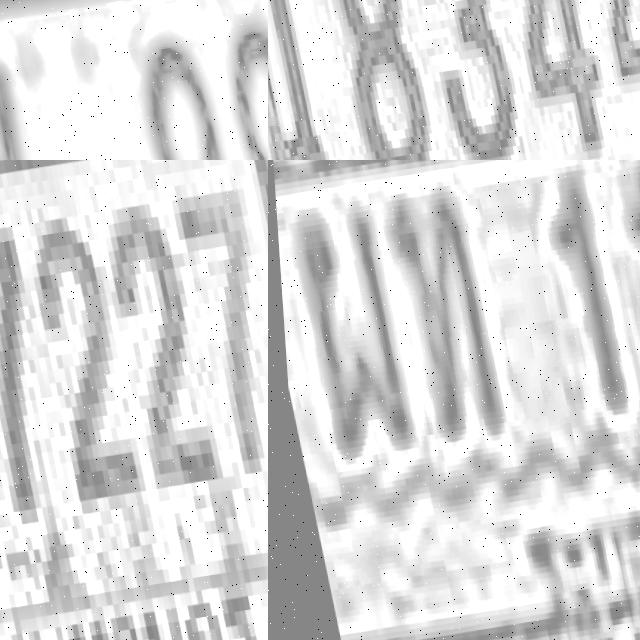license-plate: (268, 160, 640, 640), (0, 160, 268, 640), (268, 0, 640, 160), (0, 0, 268, 160)
